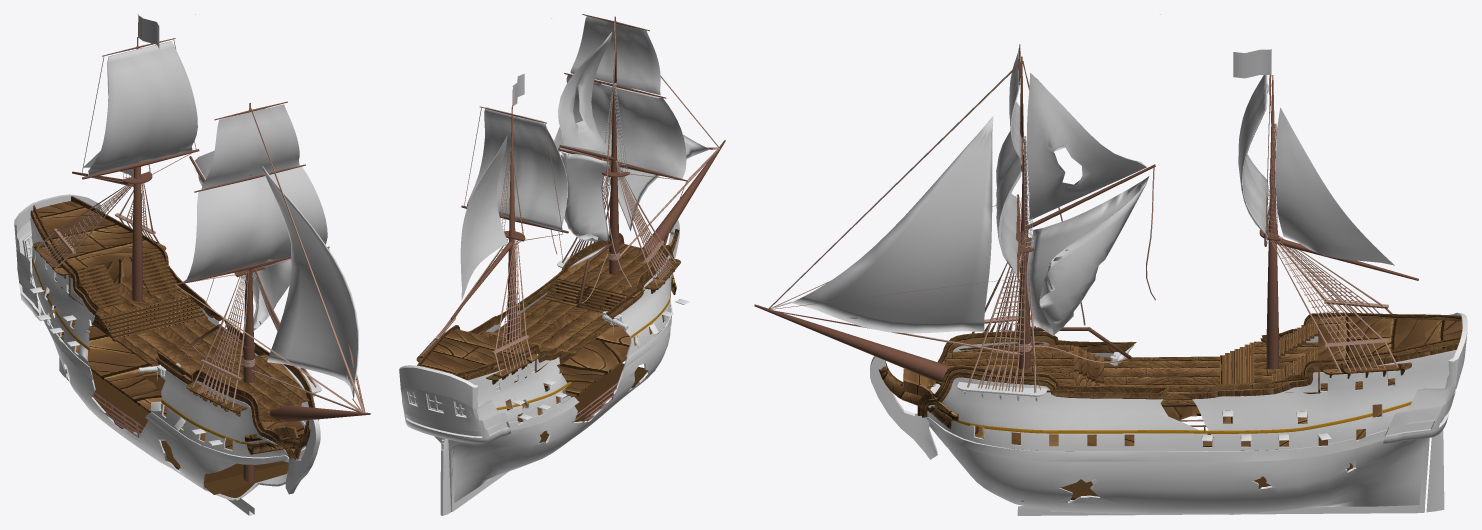
The model's file is Level3.fbx.
3 views of the same model, side by side, from view 1: azimuth 30°, elevation 25°; view 2: azimuth 150°, elevation 25°; view 3: azimuth 270°, elevation 25° (orthographic). The views are drawn at different scales.
Parts seen in each view (by area): view 1: FrontCrossSail, Back Drive Sail, Front Bottom Drive Sail, SidesWalls, Front top Drive Sail, SidesWalls.004, HullBelow, SidesWalls.006, TopDeck, HullBelow.001, HullBelow.002, Side Trim (+19 smaller); view 2: Back Drive Sail, Front Bottom Drive Sail, HullBelow, Plane.016, SidesWalls, Front top Drive Sail, TopDeck, BackCrossSail, Plane.018, HullBelow.001, Plane.022, SidesWalls.006 (+23 smaller); view 3: SidesWalls, HullBelow, FrontCrossSail, Plane.018, Plane.022, BackCrossSail, Side Trim, SidesPlanks.001, SidesWalls.004, SidesWalls.006, NettingBack, Keel (+20 smaller).
Part boxes in pixels (x1,y1,x2,y2): FrontCrossSail: (262, 166, 358, 399); Back Drive Sail: (88, 41, 197, 175); Front Bottom Drive Sail: (181, 166, 327, 283); SidesWalls: (30, 216, 308, 457); Front top Drive Sail: (201, 104, 299, 189); SidesWalls.004: (30, 201, 164, 296); HullBelow: (32, 276, 305, 500); SidesWalls.006: (31, 237, 309, 413); TopDeck: (116, 318, 301, 422); HullBelow.001: (46, 293, 303, 462); HullBelow.002: (91, 371, 288, 497); Side Trim: (33, 196, 314, 459); Back Drive Sail: (467, 107, 568, 230); Front Bottom Drive Sail: (554, 75, 686, 178); HullBelow: (440, 327, 670, 502); Plane.016: (399, 365, 511, 443); SidesWalls: (467, 246, 673, 422); Front top Drive Sail: (570, 16, 660, 95); TopDeck: (493, 294, 613, 352); BackCrossSail: (460, 135, 507, 299); Plane.018: (561, 152, 609, 241); HullBelow.001: (505, 315, 664, 422); Plane.022: (558, 32, 612, 153); SidesWalls.006: (477, 243, 660, 388); SidesWalls: (927, 336, 1456, 450); HullBelow: (929, 384, 1428, 514); FrontCrossSail: (791, 116, 993, 333); Plane.018: (1026, 176, 1149, 335); Plane.022: (1026, 73, 1146, 220); BackCrossSail: (1275, 107, 1394, 265); Side Trim: (917, 312, 1461, 415); SidesPlanks.001: (926, 417, 1387, 461); SidesWalls.004: (1318, 316, 1462, 393); SidesWalls.006: (947, 341, 1394, 395); NettingBack: (1270, 236, 1398, 372); Keel: (870, 356, 1429, 515).
Size of the model in its own units: 2010 by 5605 by 7183.
